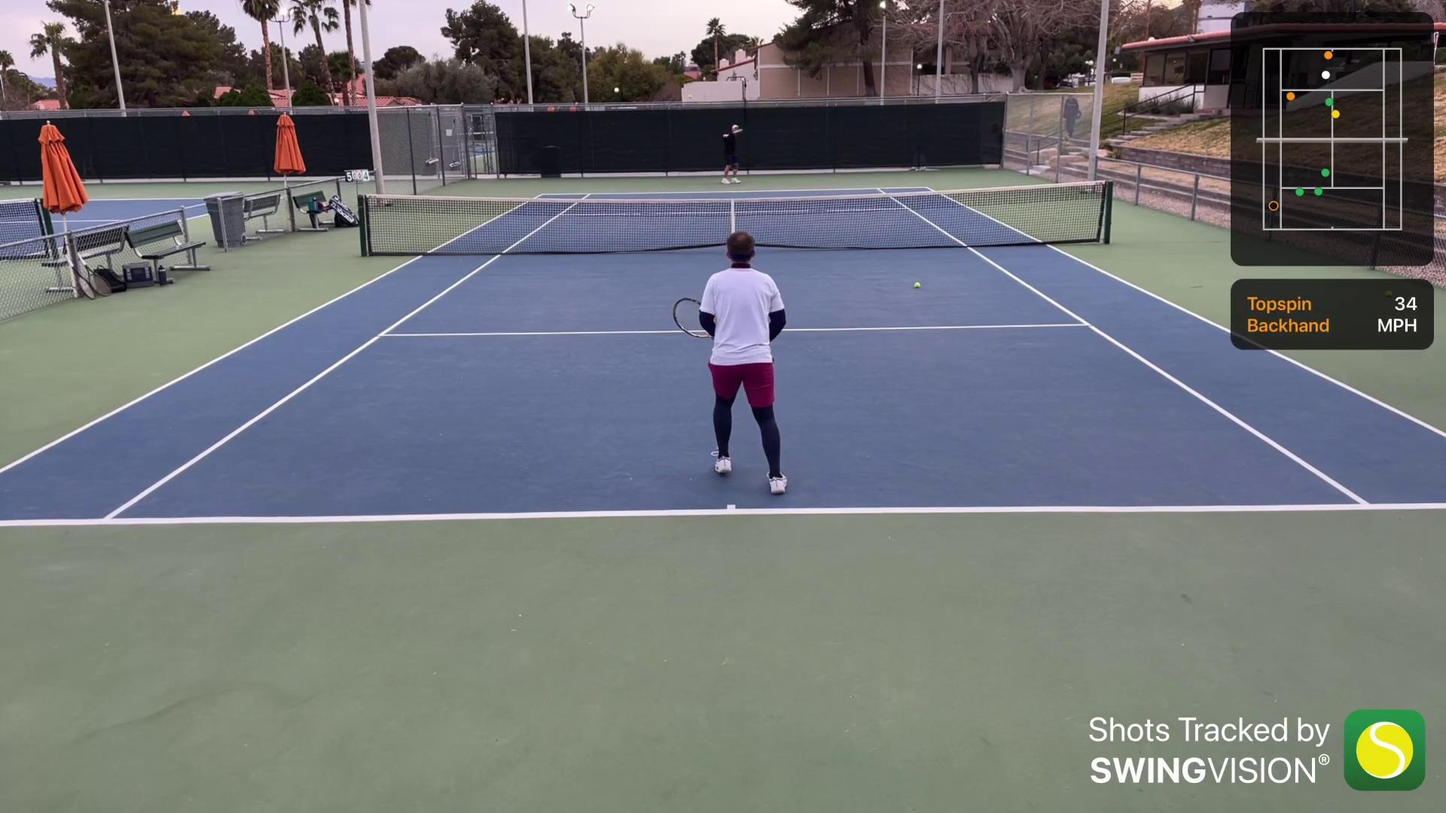ball: (912, 278, 921, 292), (686, 93, 694, 103)
